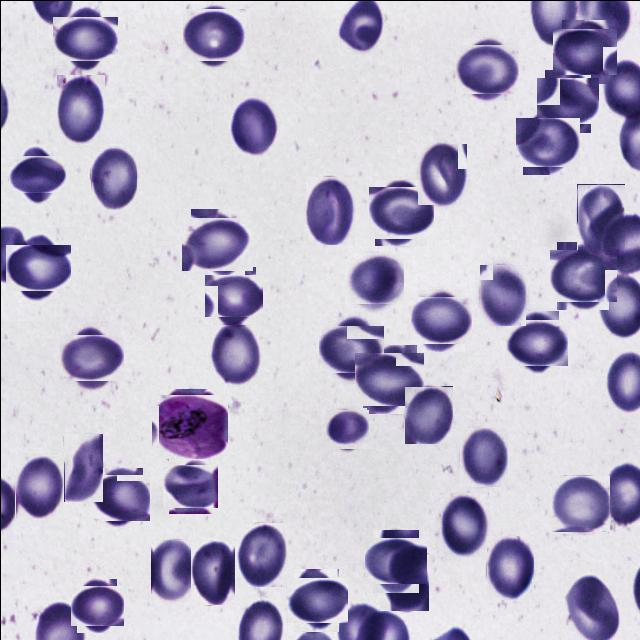difficult: (153, 392, 224, 462)
red blood cell: (186, 212, 248, 274), (358, 348, 419, 409), (370, 182, 430, 242), (552, 245, 612, 305), (304, 175, 354, 244), (576, 183, 624, 254), (184, 6, 242, 64), (56, 74, 104, 144), (518, 113, 575, 170), (552, 474, 608, 532), (236, 522, 286, 586), (438, 492, 488, 556), (210, 321, 260, 384), (56, 10, 112, 66), (556, 23, 612, 79), (459, 40, 515, 96), (9, 239, 65, 295), (485, 534, 533, 599), (416, 142, 466, 204), (346, 250, 402, 305), (323, 321, 379, 376), (14, 454, 62, 518), (508, 314, 562, 370), (64, 330, 118, 385), (413, 293, 468, 347), (540, 73, 594, 128), (368, 533, 422, 588), (90, 145, 136, 209), (458, 426, 507, 486), (288, 572, 342, 626), (478, 263, 525, 325), (150, 539, 196, 602), (92, 471, 146, 524), (379, 552, 428, 610), (403, 385, 452, 443), (230, 95, 278, 154), (190, 540, 234, 604), (63, 432, 102, 501), (208, 270, 258, 320), (166, 461, 214, 510), (13, 150, 61, 198), (72, 582, 120, 628), (326, 408, 367, 449)
